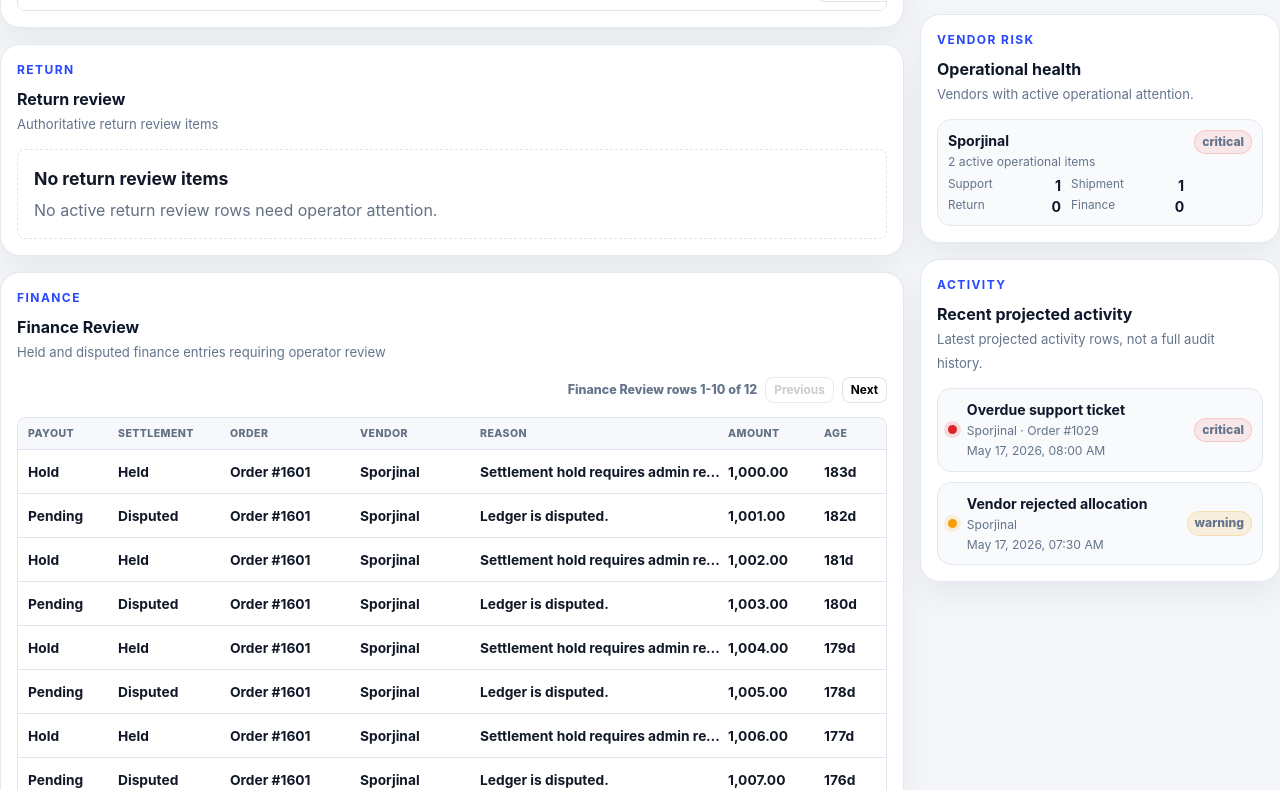
AdminOperationsQueuePage attention center › pages Finance Review independently with authoritative totals and boundary controls
This screenshot has width=1280, height=790.
(page scrolled)
Expected: the text "Finance Review rows 1-10 of 12" is shown, [568,381,757,400]
Expected: the button "Previous" is disabled, [765,377,834,403]
Click the button "Next". click: (864, 390)
box: [842,377,887,403]
(page scrolled)
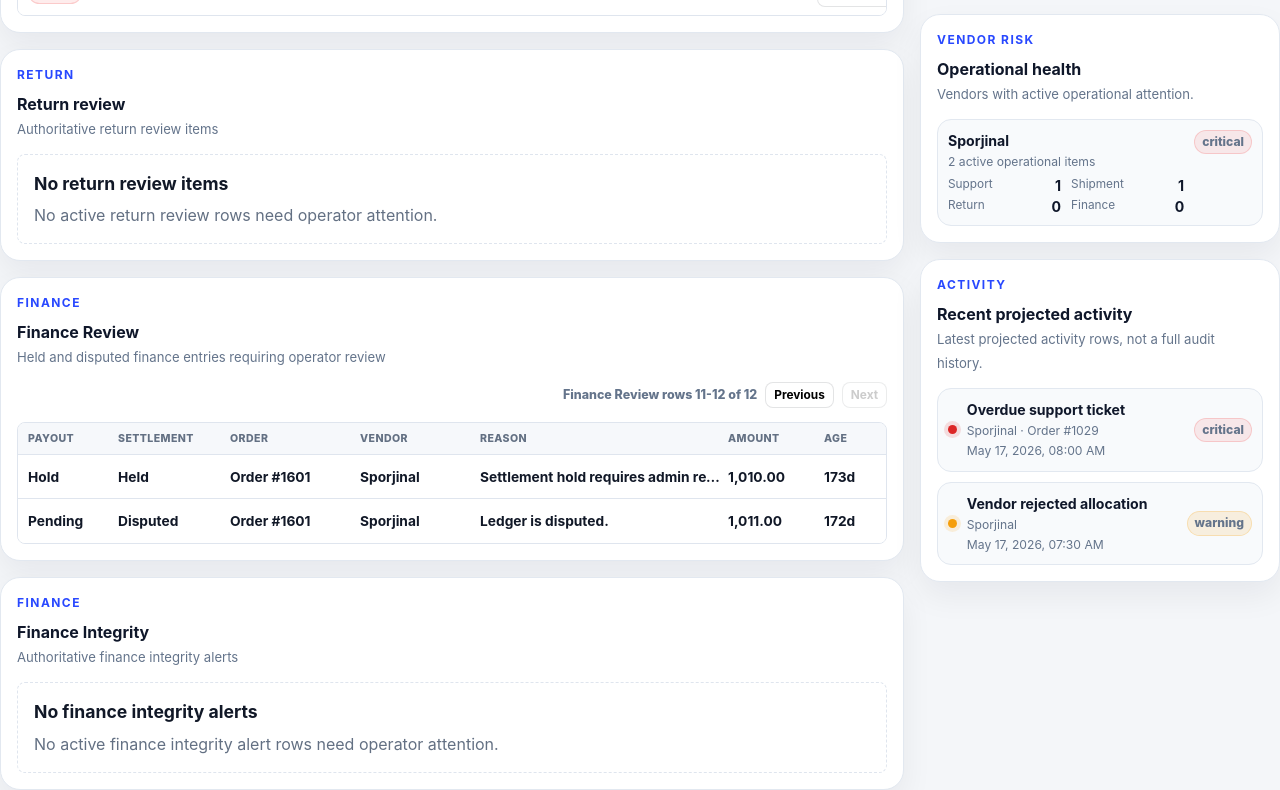
Expected: the text "Finance Review rows 11-12 of 12" is shown, [563,386,757,405]
Expected: the button "Previous" is enabled
Expected: the button "Next" is disabled, [842,382,887,408]
Click the button "Previous". click: (800, 395)
box: [765,382,834,408]
(page scrolled)
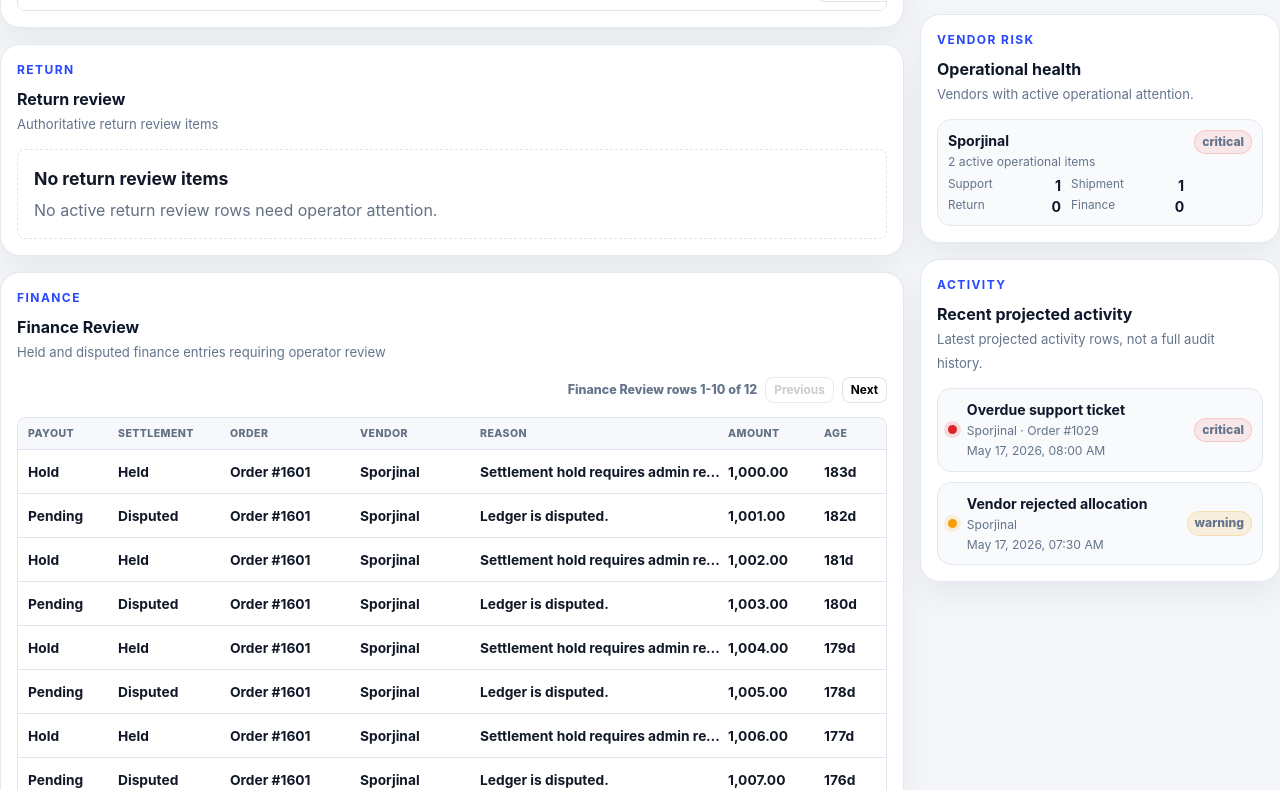
Expected: the text "Finance Review rows 1-10 of 12" is shown, [568,381,757,400]
